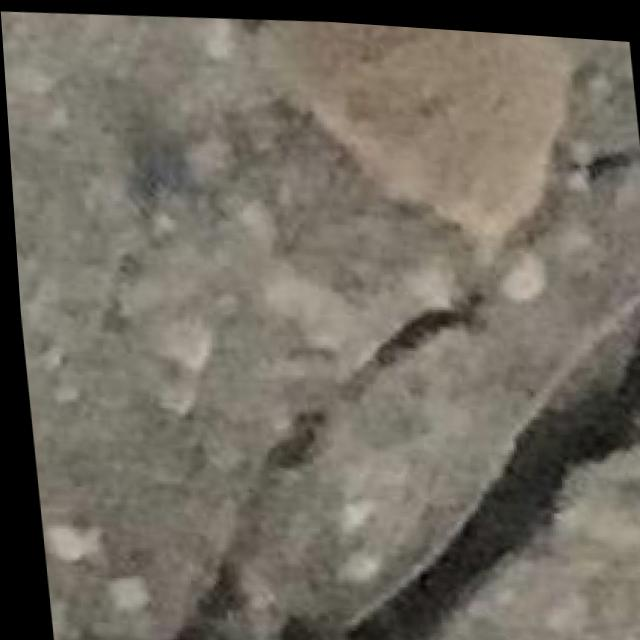Crack: (50, 17, 640, 640), (111, 306, 640, 640)
